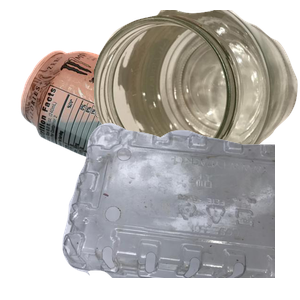glass: (94, 10, 300, 184)
metal: (18, 48, 258, 228)
plastic: (60, 120, 300, 300)
trash: (88, 177, 251, 300)
